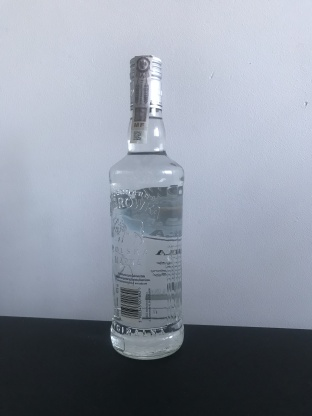nakretka: (127, 51, 164, 114)
